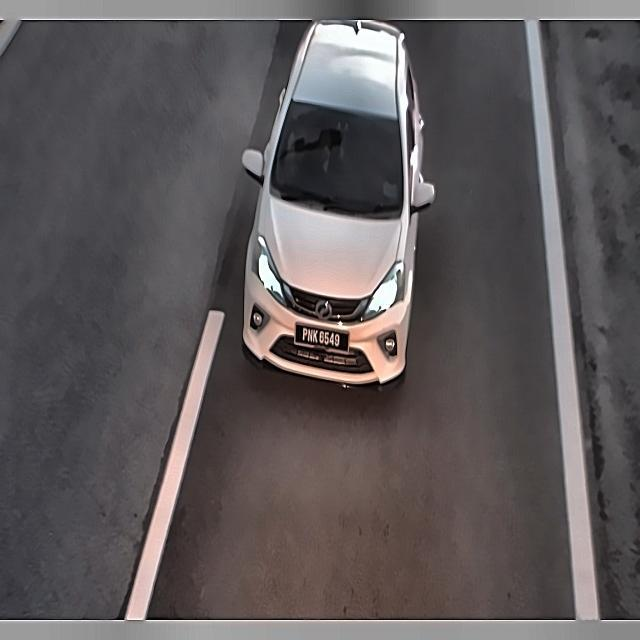car: (292, 317, 351, 360)
